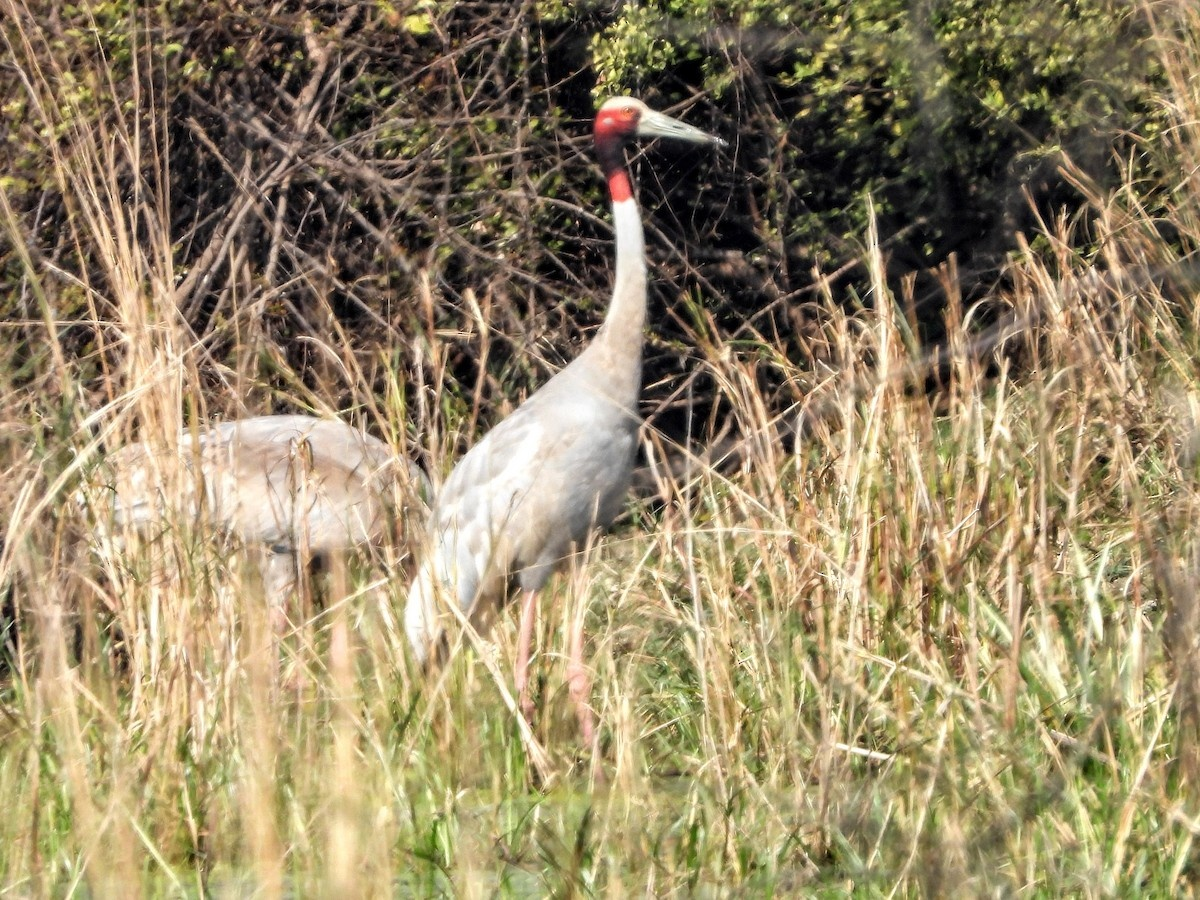crane: (380, 84, 750, 737)
